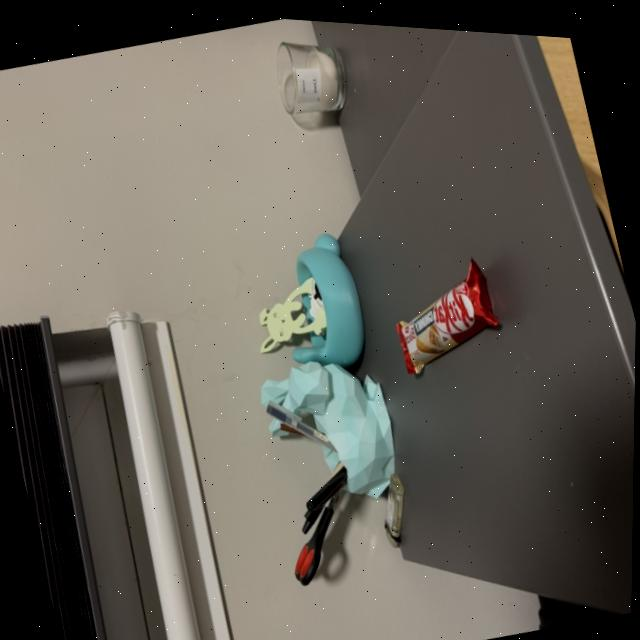chocolate: (376, 243, 513, 383)
